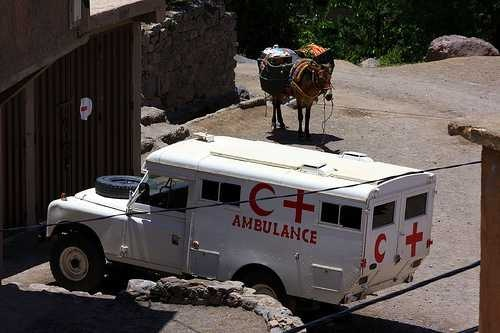Ambulance: (55, 111, 446, 314)
